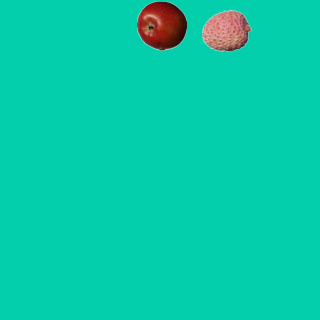Apple Braeburn: (136, 0, 186, 50)
Lychee: (201, 5, 251, 55)
